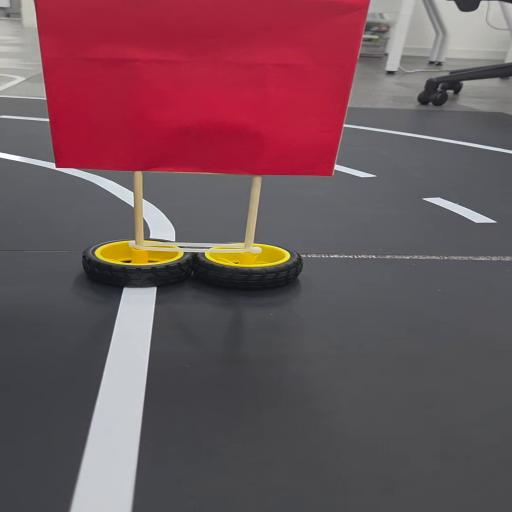Sign_A: (39, 1, 366, 299)
